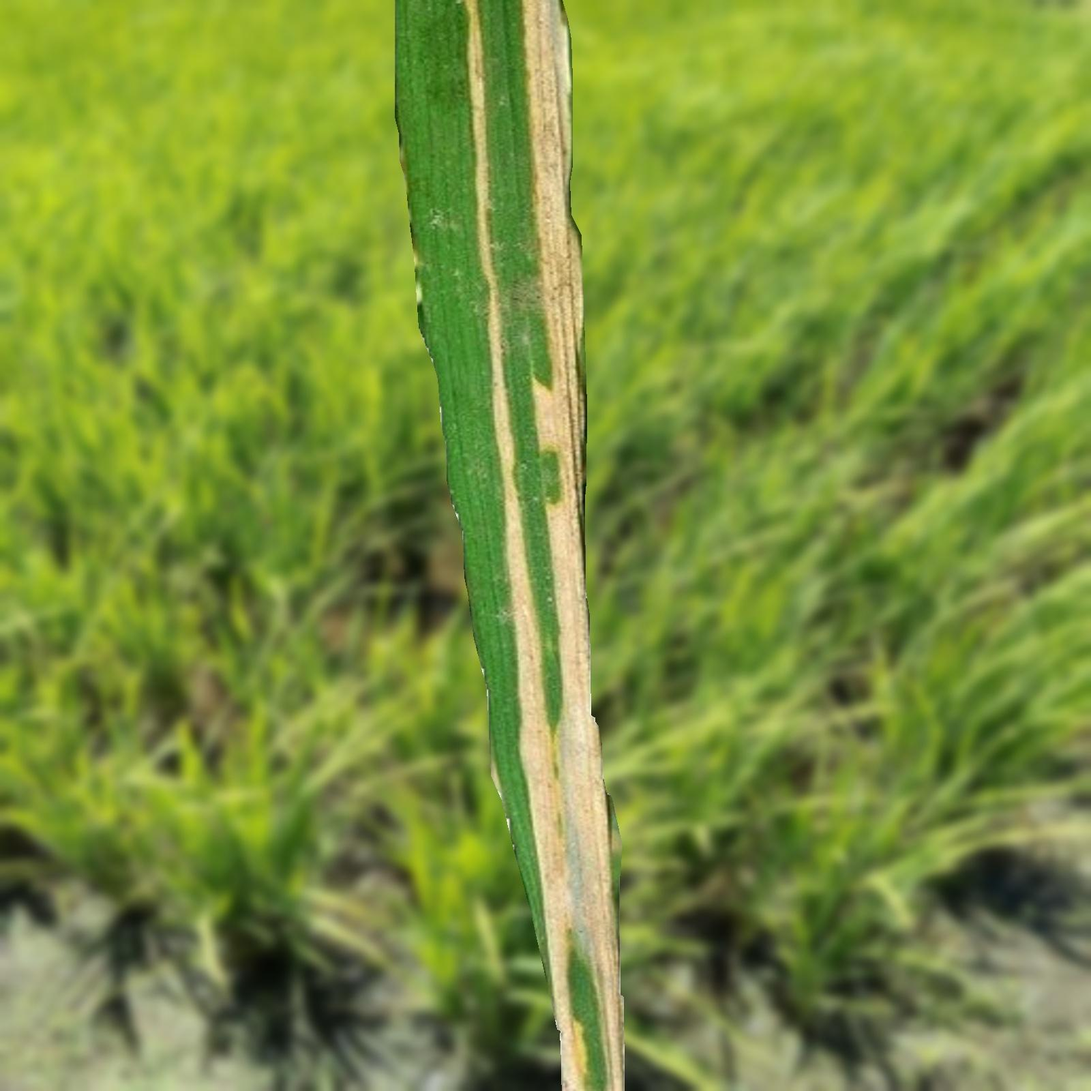BLB: (464, 1, 624, 1090)
LEAF: (395, 0, 624, 1090)
